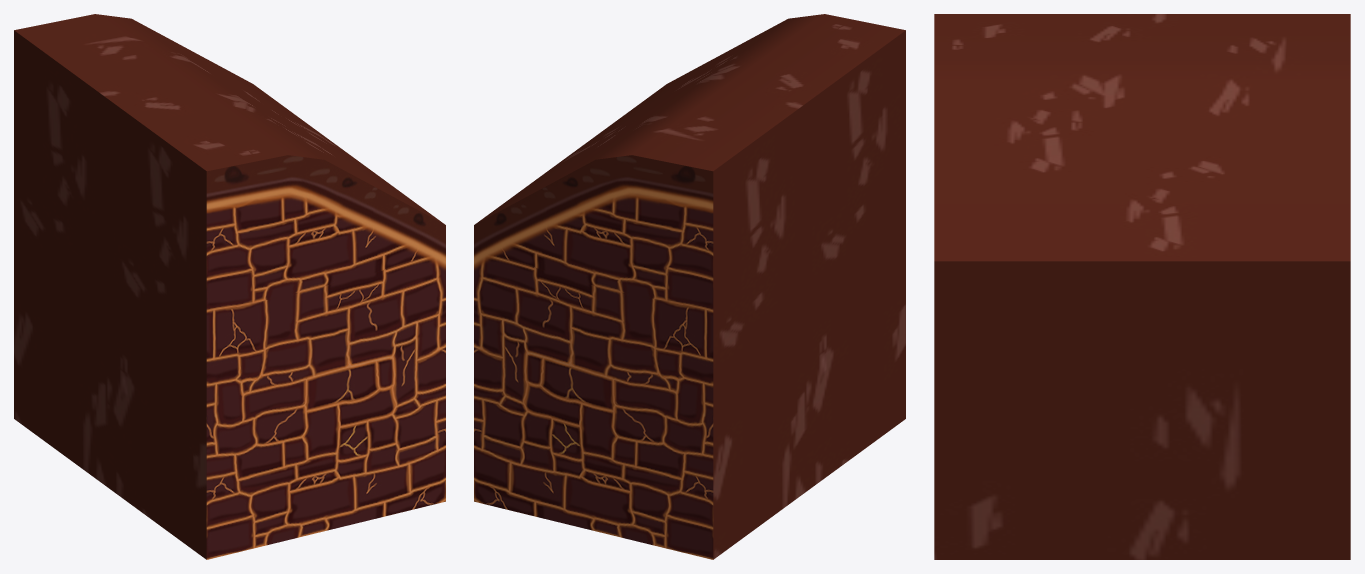
File: Volcano_R_6.fbx
3 renders of one model, left to right at view 1: azimuth 30°, elevation 25°; view 2: azimuth 150°, elevation 25°; view 3: azimuth 270°, elevation 25°, orthographic. The views are drawn at different scales.
Visible parts, largest first — view 1: Volcano_R_6; view 2: Volcano_R_6; view 3: Volcano_R_6.
Part boxes in pixels (box(x1,y1,x2,y2)): Volcano_R_6: box(14, 14, 445, 559); Volcano_R_6: box(474, 14, 905, 559); Volcano_R_6: box(934, 14, 1350, 559).
Size of the model in its own units: 3.05 by 4.74 by 4.26.
1 material, 1 textured.
